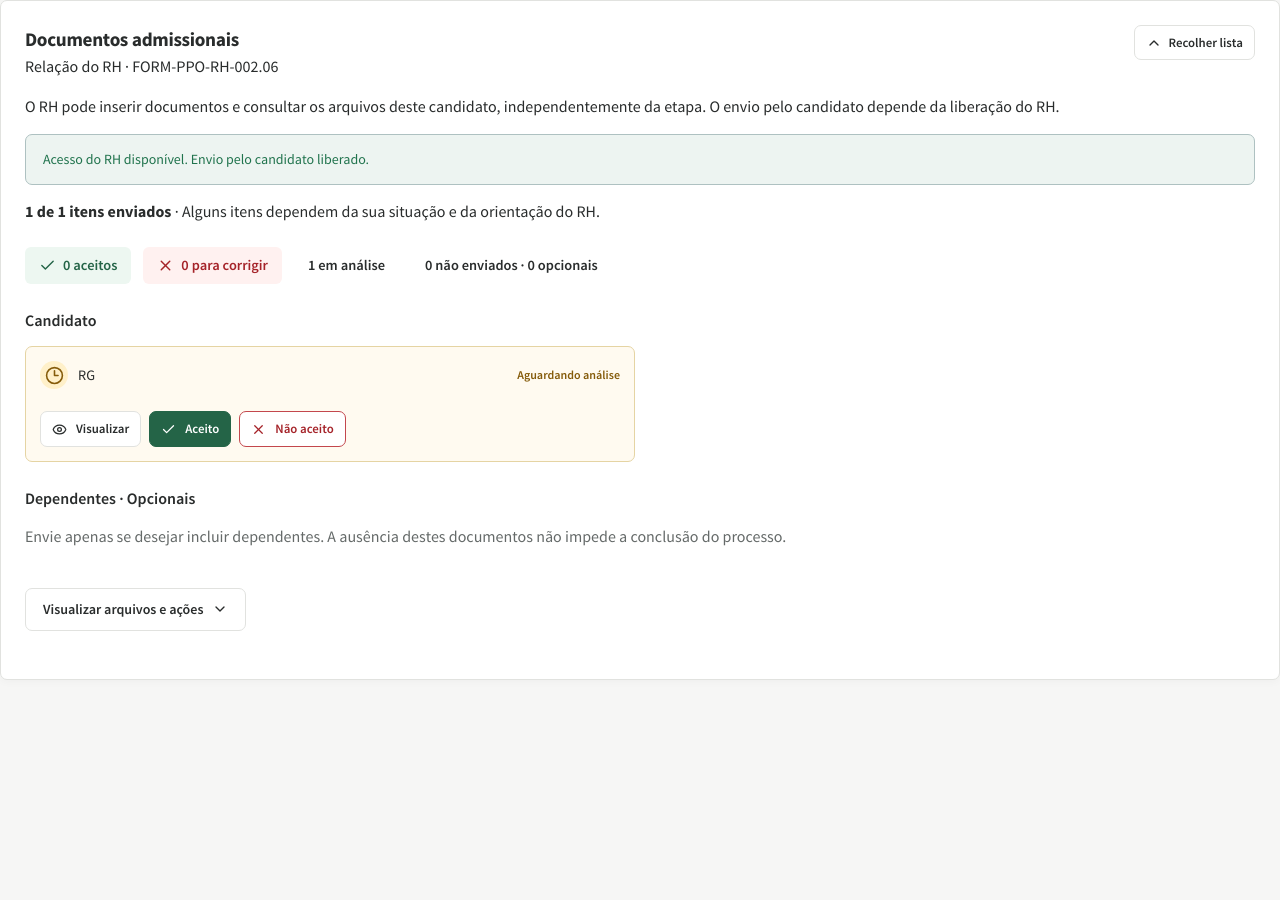
mostra apenas visualizar e baixar após aceite e devolve documentos pendentes com motivo
Later steps or results of the test are not shown.
Click the button with aria-label "Aceito: RG".
click(190, 429)  # box [149,411,231,447]
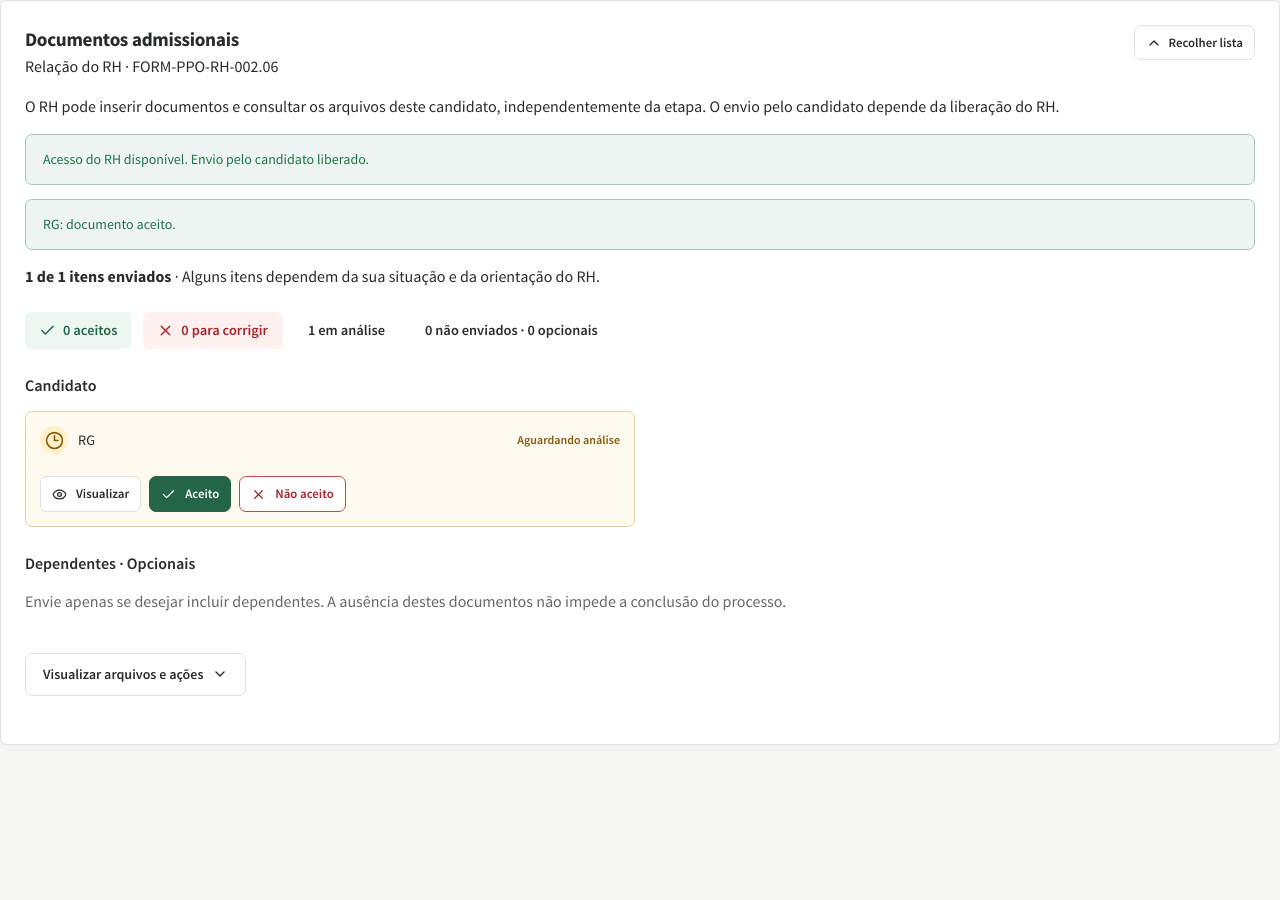
Check: the button with aria-label "Visualizar: RG" is shown, box [40,476,141,512]
Click the button with aria-label "Não aceito: RG".
click(292, 494)  # box [239,476,346,512]
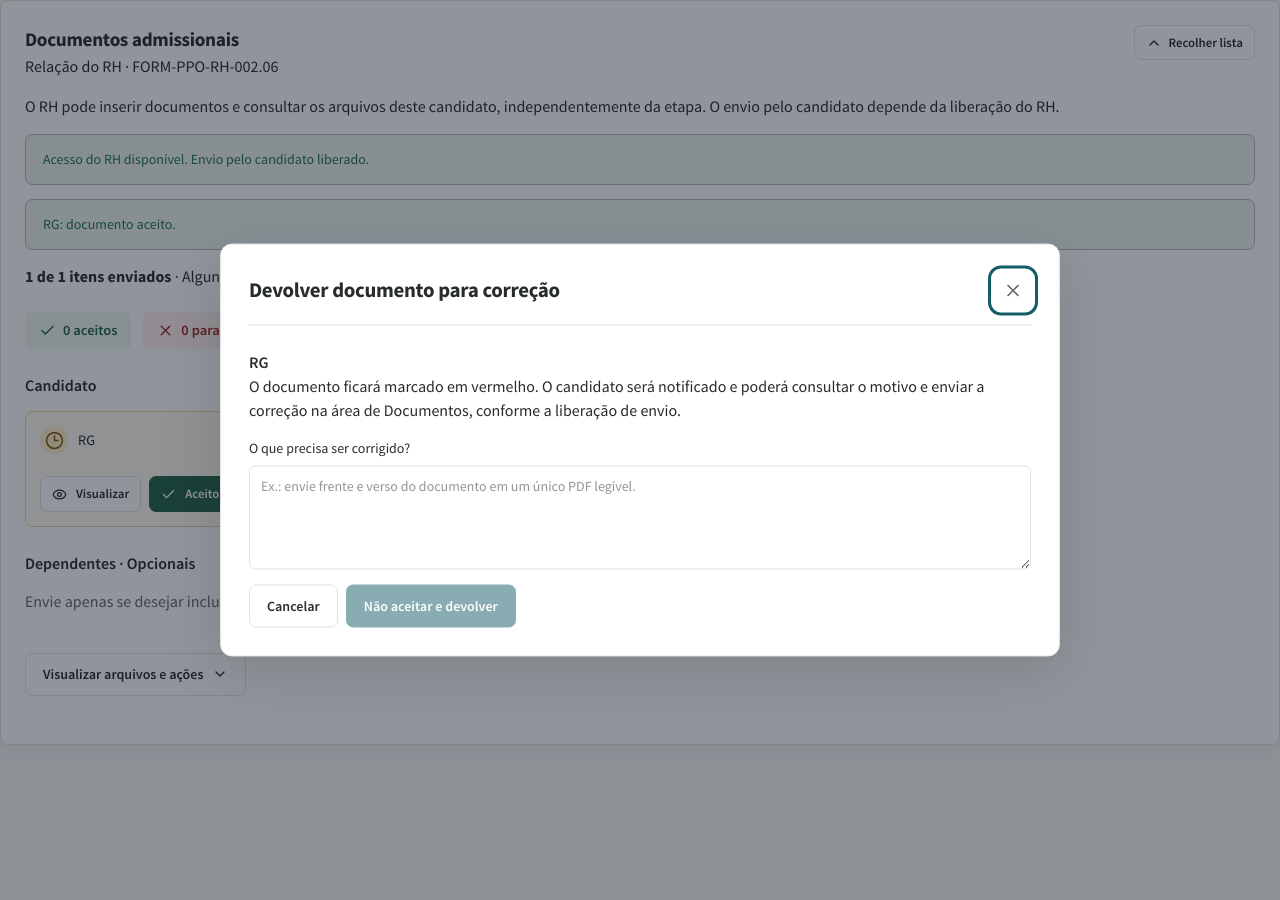
Check: the button "Não aceitar e devolver" is disabled, box [346,584,516,628]
Replace the text in the text box labelled "O que precisa ser corrigido?" with "Envie frente e verso em PDF legível." at (640, 518), box [249,466,1031,570]
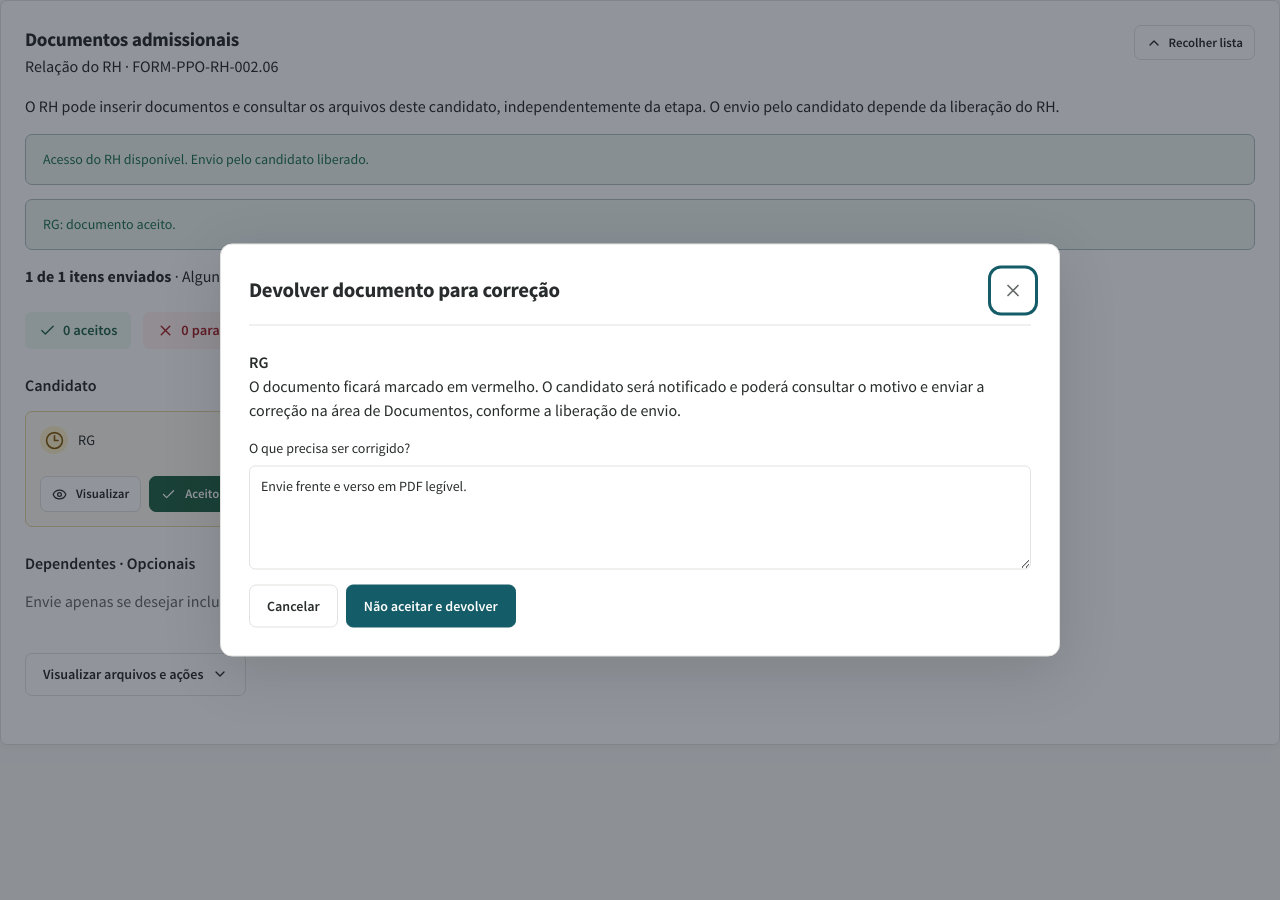
Click the button "Não aceitar e devolver".
click(431, 606)  # box [346,584,516,628]
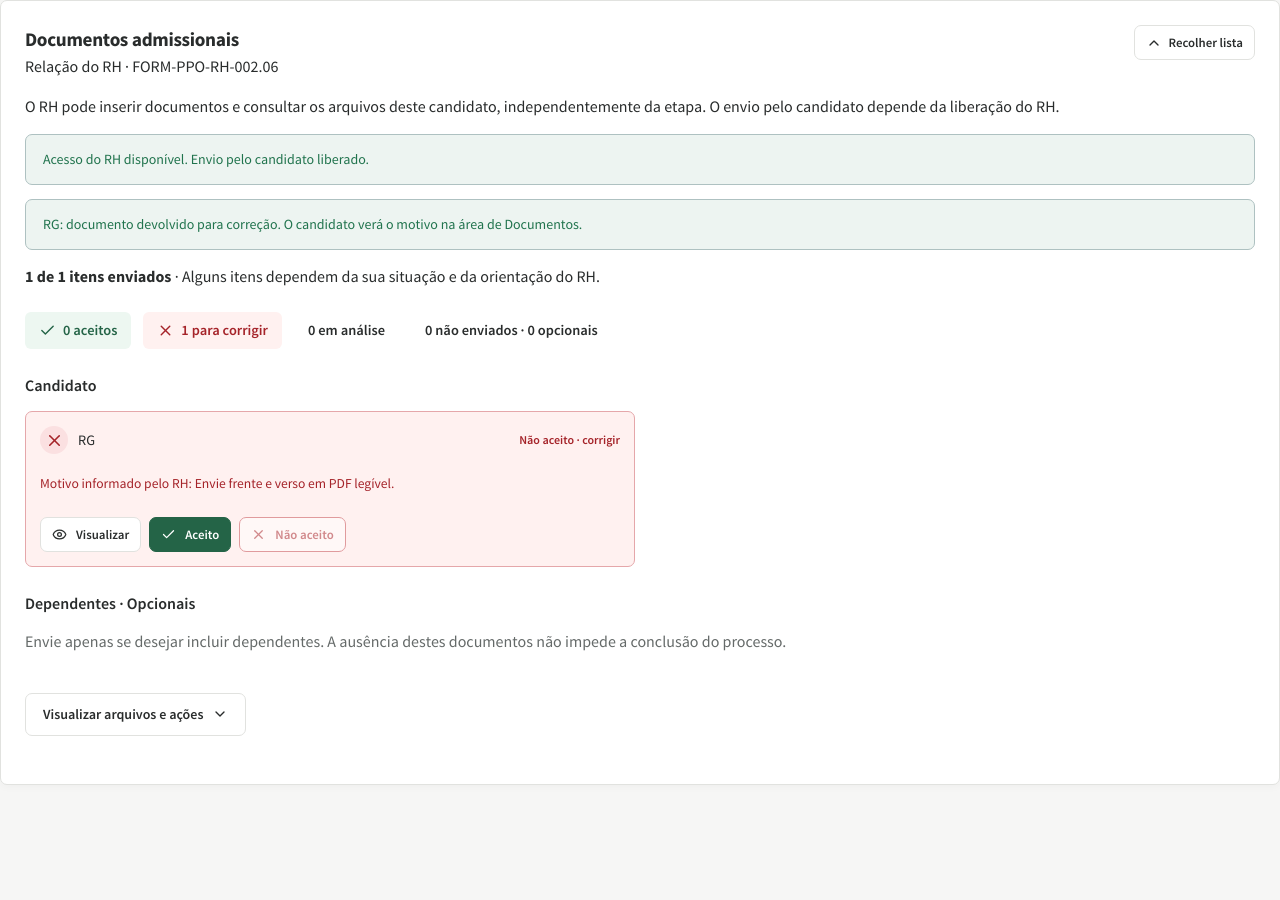
Check: the text "Envie frente e verso" is shown, box [195,475,394,492]
